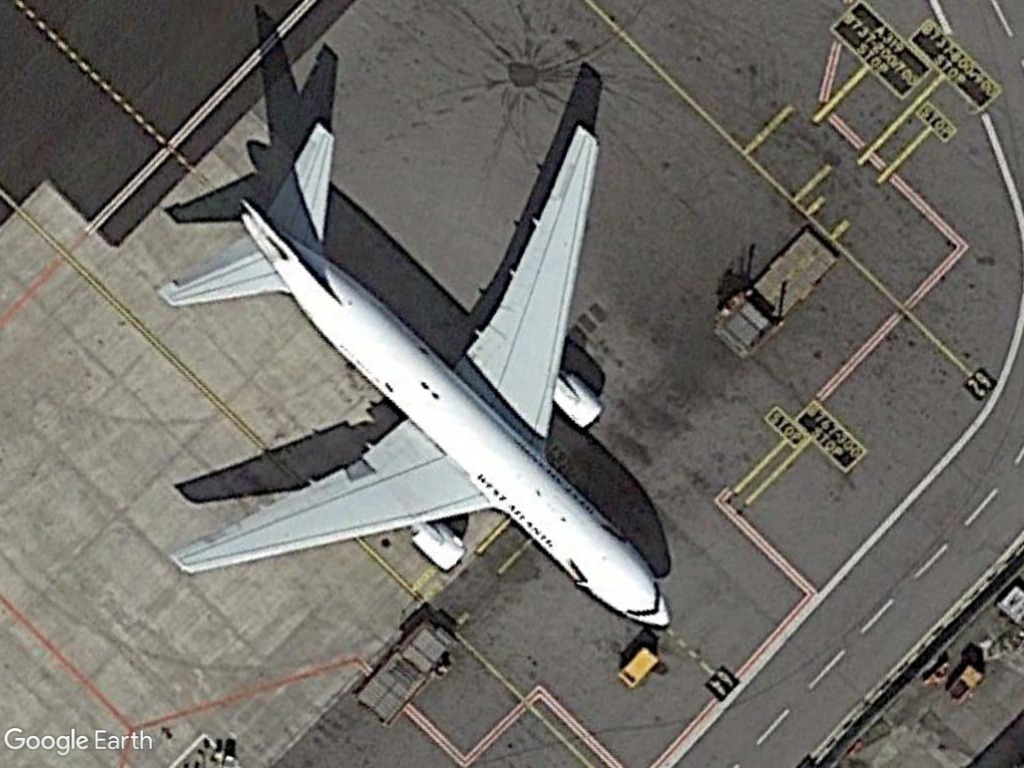airliner: (159, 106, 676, 632)
